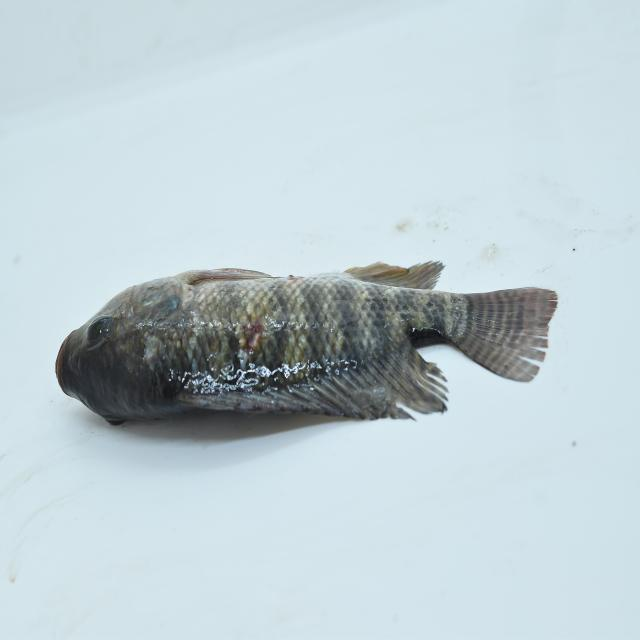Columnaris Disease: (43, 257, 572, 450)
